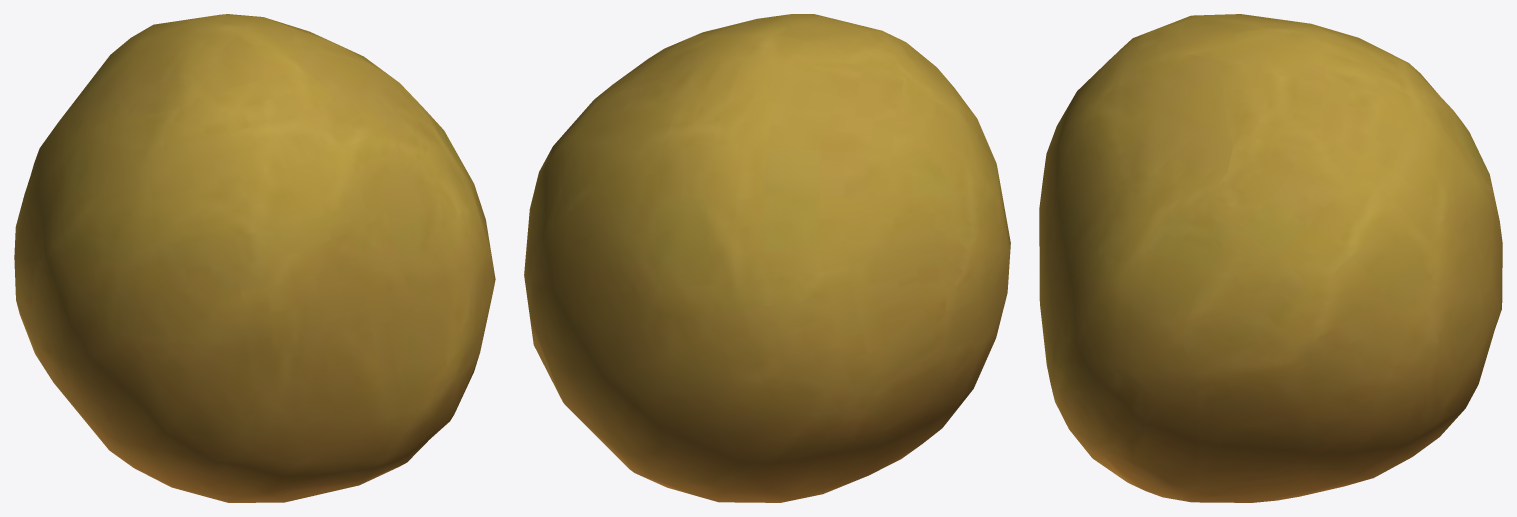
Rendered from hoard_orb.glb.
3 renders of one model, left to right at view 1: azimuth 30°, elevation 25°; view 2: azimuth 150°, elevation 25°; view 3: azimuth 270°, elevation 25°, orthographic.
Parts seen in each view (by area): view 1: ball-a; view 2: ball-a; view 3: ball-a.
Boxes of the visible parts, left/top/right/bottom form: ball-a: left=14, top=14, right=495, bottom=502; ball-a: left=524, top=14, right=1010, bottom=502; ball-a: left=1039, top=14, right=1502, bottom=502.
Bounding box in the file's own units: 0.9598 × 1 × 0.938.
Materials: 1 (1 with a texture image).
